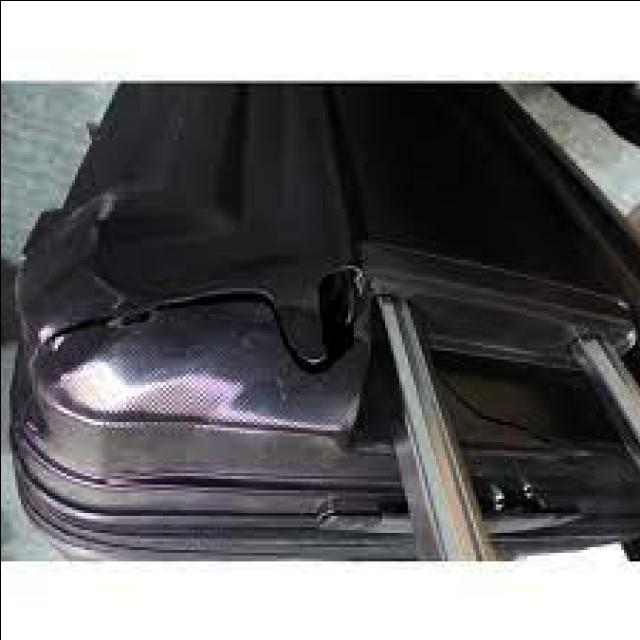Damage-bag: (21, 271, 366, 372)
